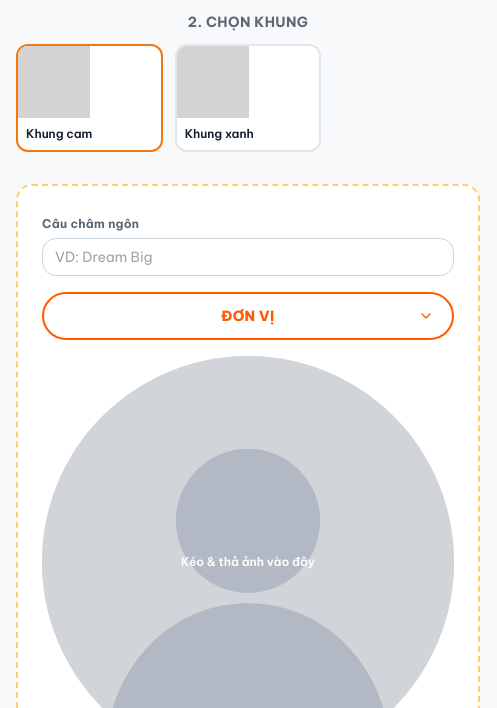
Scenario: AvatarCreator › switches the selected frame and resets its overlay field values when a second template is chosen
Click the button "Khung xanh". click: (248, 98)
box: [175,44,321,152]
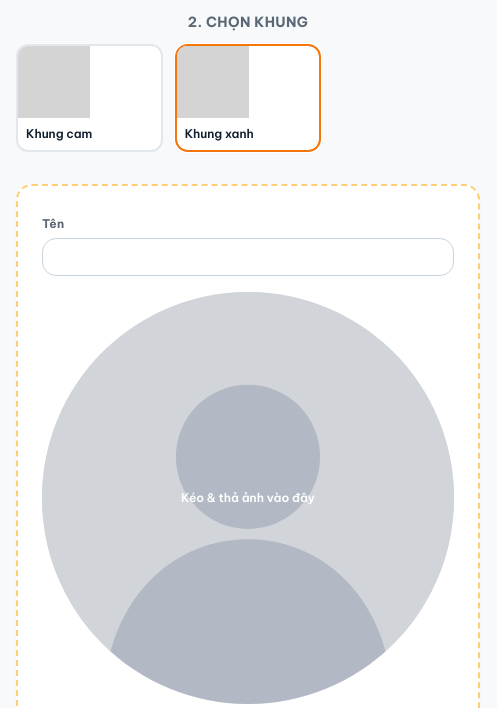
Expected: the field labelled "Tên" is shown, [42,238,454,276]
Expected: the label labelled "Câu châm ngôn" is gone
